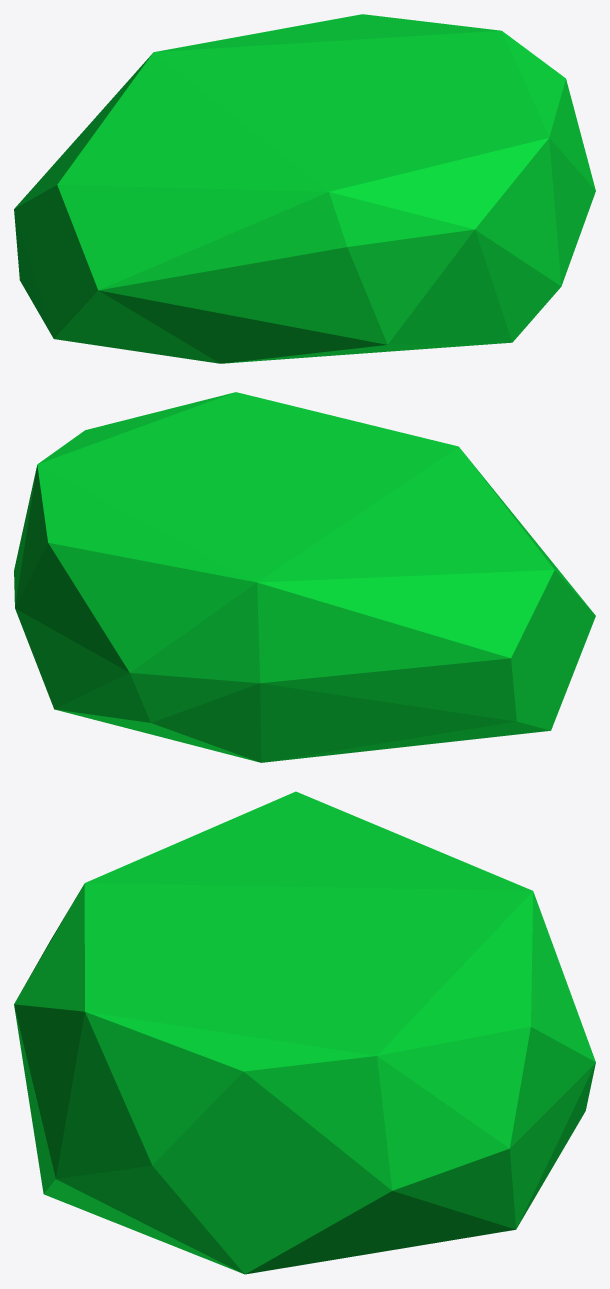
File: toe-B-rod_convex_piece_001.obj
3 views of the same model, one above another, from view 1: azimuth 30°, elevation 25°; view 2: azimuth 150°, elevation 25°; view 3: azimuth 270°, elevation 25° (orthographic). The views are drawn at different scales.
Bounding box in the file's own units: 0.019 × 0.00669 × 0.0162.
